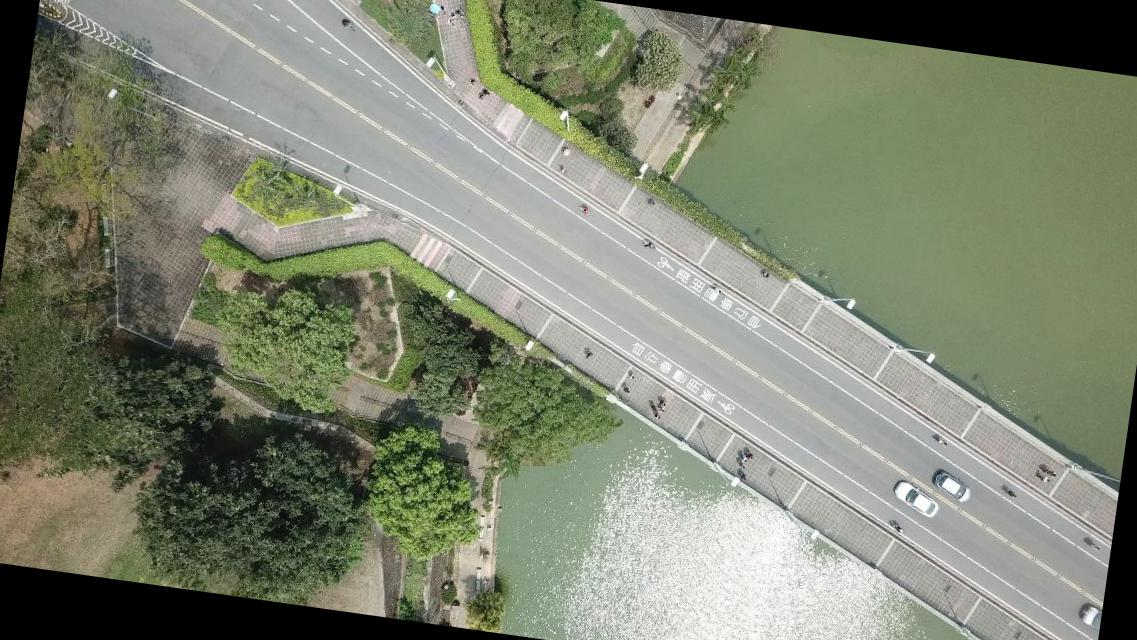vehicle: (892, 480, 942, 519), (930, 469, 972, 504), (1078, 603, 1101, 632)
